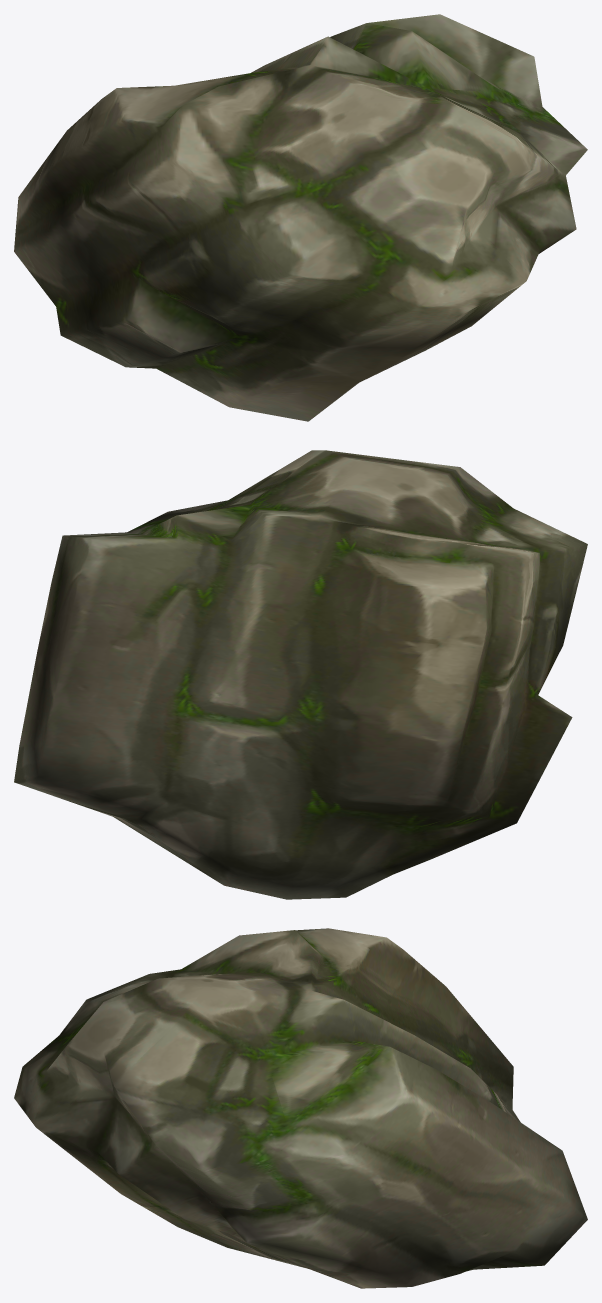
The model's file is RockFormation_4_2 (23).fbx.
The picture shows the model from 3 angles, top to bottom: view 1: azimuth 30°, elevation 25°; view 2: azimuth 150°, elevation 25°; view 3: azimuth 270°, elevation 25°; orthographic projection. The views are drawn at different scales.
Visible parts, largest first — view 1: RockFormation_4_2 (23); view 2: RockFormation_4_2 (23); view 3: RockFormation_4_2 (23).
Boxes of the visible parts, <box> form: RockFormation_4_2 (23): <box>14,14,587,421</box>; RockFormation_4_2 (23): <box>14,450,587,899</box>; RockFormation_4_2 (23): <box>14,928,587,1288</box>.
Size of the model in its own units: 109 by 69.44 by 126.
